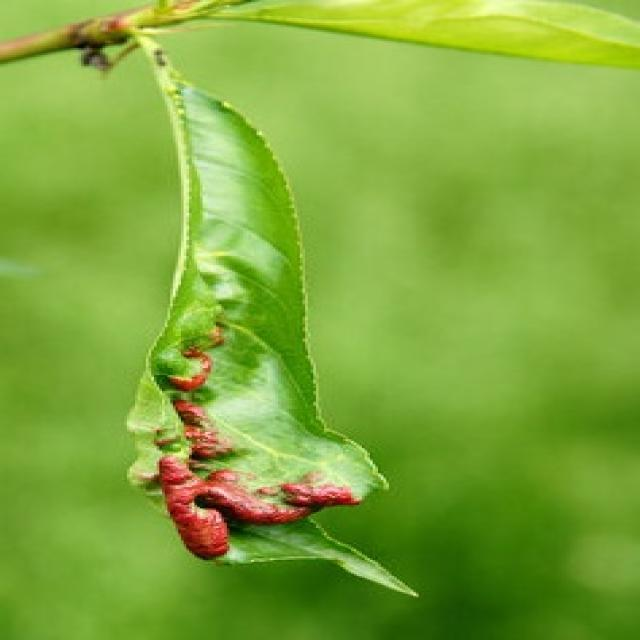peach_leaf_curl: (148, 320, 362, 560)
